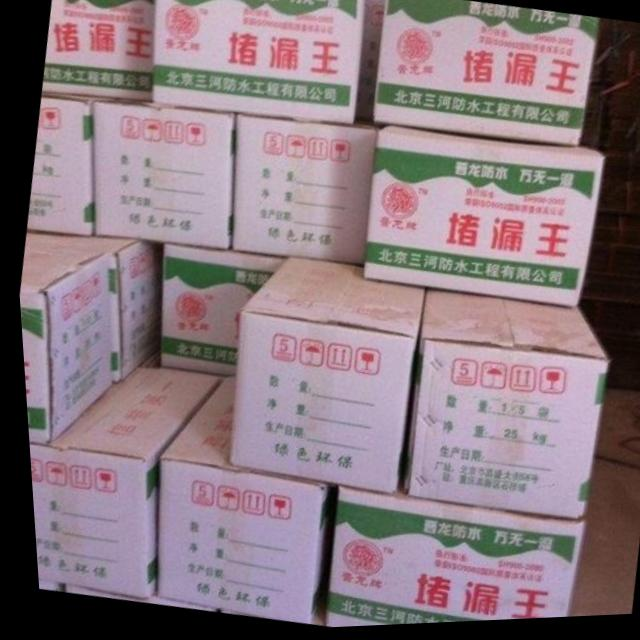box: (397, 292, 604, 523), (222, 259, 422, 497), (360, 129, 604, 315), (23, 368, 215, 600), (148, 378, 324, 625), (317, 487, 578, 630), (371, 0, 600, 151), (151, 0, 362, 129), (229, 117, 376, 268), (90, 102, 231, 252), (22, 230, 151, 384), (15, 241, 107, 444), (156, 245, 287, 381), (40, 0, 155, 101), (23, 97, 92, 237)
